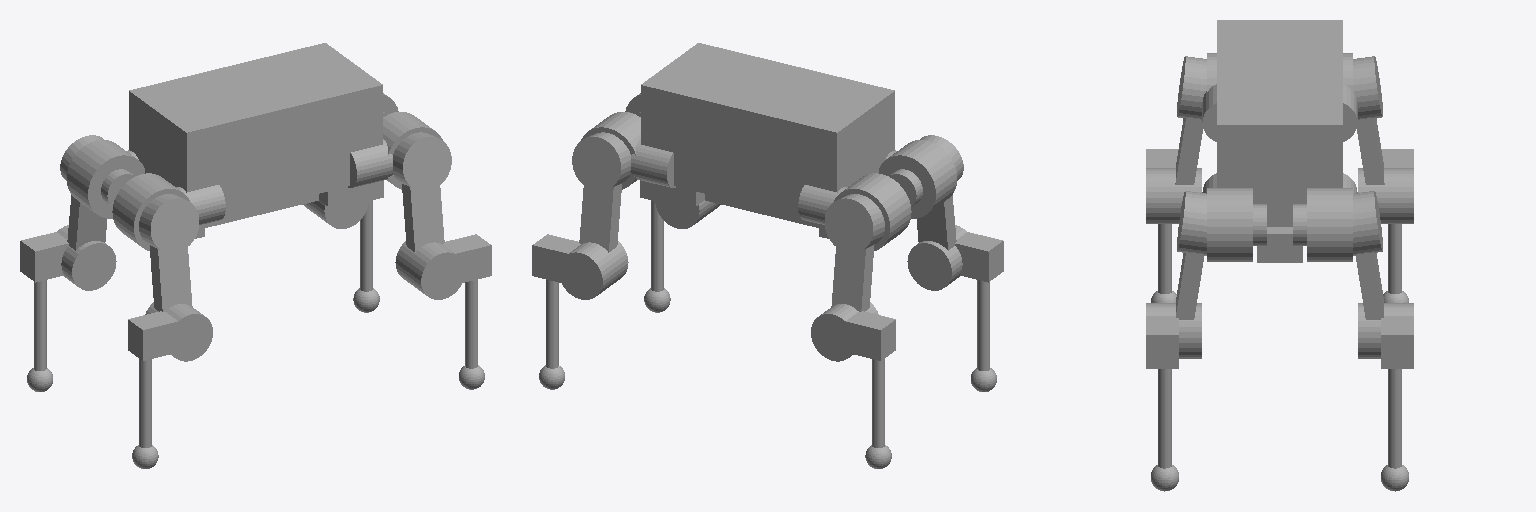
--- What the picture shows (computed from the rendered views, not written in the file) ---
The picture shows the robot from 3 angles, left to right: view 1: azimuth 30°, elevation 25°; view 2: azimuth 150°, elevation 25°; view 3: azimuth 270°, elevation 25°; orthographic projection.
Robot: anymal — 23 links, 22 joints (12 revolute, 10 fixed); root link base; default pose: every joint at zero.
Links seen in each view (by area): view 1: base, RF_THIGH, RH_THIGH, LH_THIGH, LH_HIP, RH_HIP, RH_SHANK, LH_SHANK, RF_SHANK, RF_HIP, LF_THIGH, LH_ADAPTER (+3 smaller); view 2: base, LF_THIGH, LH_THIGH, RH_THIGH, RH_HIP, LH_HIP, LH_SHANK, RH_SHANK, LF_SHANK, LF_HIP, RF_THIGH, RH_ADAPTER (+3 smaller); view 3: base, LH_THIGH, RH_THIGH, LF_THIGH, RF_THIGH, LF_HIP, RF_HIP, LF_SHANK, RF_SHANK, LF_ADAPTER, RF_ADAPTER, LH_ADAPTER (+5 smaller).
Link boxes in pixels (x1,y1,x2,y2): base: (127,43,393,238); RF_THIGH: (393,132,465,299); RH_THIGH: (139,194,212,361); LH_THIGH: (57,135,116,290); LH_HIP: (67,140,144,218); RH_HIP: (112,173,189,250); RH_SHANK: (128,311,190,360); LH_SHANK: (20,232,68,282); RF_SHANK: (443,234,491,283); RF_HIP: (383,112,442,189); LF_THIGH: (303,189,368,228); LH_ADAPTER: (34,280,46,370); base: (630,43,896,238); LF_THIGH: (559,132,630,299); LH_THIGH: (811,194,884,361); RH_THIGH: (907,135,966,290); RH_HIP: (879,140,956,218); LH_HIP: (834,173,911,250); LH_SHANK: (833,311,895,360); RH_SHANK: (955,232,1003,282); LF_SHANK: (532,234,580,282); LF_HIP: (581,112,640,189); RF_THIGH: (655,189,720,228); RH_ADAPTER: (977,280,989,370); base: (1202,20,1357,262); LH_THIGH: (1353,56,1413,223); RH_THIGH: (1146,56,1206,223); LF_THIGH: (1353,191,1413,358); RF_THIGH: (1146,191,1206,358); LF_HIP: (1293,188,1352,261); RF_HIP: (1207,188,1266,261); LF_SHANK: (1381,316,1413,368); RF_SHANK: (1146,316,1178,368); LF_ADAPTER: (1388,369,1401,468); RF_ADAPTER: (1158,369,1171,468); LH_ADAPTER: (1388,224,1401,293).
Size in the robot's own frame: 0.943 by 0.572 by 0.779 metres.
Geometry: primitives only (box / cylinder / sphere), no mesh files.

The robot description file, URDF, robot "anymal":
<?xml version="1.0" ?>
<!-- =================================================================================== -->
<!-- |    This document was autogenerated by xacro from [local-path]/anymal_ws/src/anymal_bear/anymal_bear_description/urdf/anymal.urdf.xacro | -->
<!-- |    EDITING THIS FILE BY HAND IS NOT RECOMMENDED                                 | -->
<!-- =================================================================================== -->
<!-- This file calls the macro of the ANYmal Bear robot. -->
<robot name="anymal" xmlns:xacro="http://www.ros.org/wiki/xacro">
  <material name="black">
    <color rgba="0.0 0.0 0.0 1.0"/>
  </material>
  <material name="blue">
    <color rgba="0.0 0.0 0.8 1.0"/>
  </material>
  <material name="green">
    <color rgba="0.0 0.8 0.0 1.0"/>
  </material>
  <material name="grey">
    <color rgba="0.2 0.2 0.2 1.0"/>
  </material>
  <material name="light_grey">
    <color rgba="0.4 0.4 0.4 1.0"/>
  </material>
  <material name="orange">
    <color rgba="1.0 0.423529411765 0.0392156862745 1.0"/>
  </material>
  <material name="brown">
    <color rgba="0.870588235294 0.811764705882 0.764705882353 1.0"/>
  </material>
  <material name="red">
    <color rgba="0.8 0.0 0.0 1.0"/>
  </material>
  <material name="white">
    <color rgba="1.0 1.0 1.0 1.0"/>
  </material>
  <gazebo>
    <plugin filename="libanymal_gazebo.so" name="gazebo_ros_control">
      <robotNamespace>anymal</robotNamespace>
      <!-- Currently unused -->
      <robotDescription>quadruped_description</robotDescription>
      <robotBaseLink>base</robotBaseLink>
      <statePublisherRate>400.0</statePublisherRate>
    </plugin>
  </gazebo>
  <!-- Material for the visual primitives -->
  <material name="anymal_material">
    <color rgba="0.7 0.7 0.7 1.0"/>
  </material>
  <!-- Includes -->
  <!-- Xacro:Properties -->
  <!-- [m] -->
  <!-- Base link -->
  <link name="base">
    <visual>
      <!-- Main Body -->
      <origin rpy="0 0 0" xyz="0 0 0.08"/>
      <geometry>
        <box size="0.531 0.27 0.24"/>
      </geometry>
      <material name="anymal_material"/>
    </visual>
    <visual>
      <!-- HAA actuators -->
      <origin rpy="0 1.57079632679 0" xyz="0.227 0.116 0"/>
      <geometry>
        <cylinder length="0.1" radius="0.05"/>
      </geometry>
      <material name="anymal_material"/>
    </visual>
    <visual>
      <origin rpy="0 1.57079632679 0" xyz="0.227 -0.116 0"/>
      <geometry>
        <cylinder length="0.1" radius="0.05"/>
      </geometry>
      <material name="anymal_material"/>
    </visual>
    <visual>
      <origin rpy="0 1.57079632679 0" xyz="-0.227 0.116 0"/>
      <geometry>
        <cylinder length="0.1" radius="0.05"/>
      </geometry>
      <material name="anymal_material"/>
    </visual>
    <visual>
      <origin rpy="0 1.57079632679 0" xyz="-0.227 -0.116 0"/>
      <geometry>
        <cylinder length="0.1" radius="0.05"/>
      </geometry>
      <material name="anymal_material"/>
    </visual>
    <visual>
      <!-- Belly plate front bump -->
      <origin rpy="0 0 0" xyz="0.2155 0.0 -0.09"/>
      <geometry>
        <box size="0.1 0.1 0.07"/>
      </geometry>
      <material name="anymal_material"/>
    </visual>
    <visual>
      <!-- Belly plate hind bump-->
      <origin rpy="0 0 0" xyz="-0.2155 0.0 -0.09"/>
      <geometry>
        <box size="0.1 0.1 0.07"/>
      </geometry>
      <material name="anymal_material"/>
    </visual>
    <visual>
      <!-- Belly plate middle bump-->
      <origin rpy="0 0 0" xyz="0 0 -0.09"/>
      <geometry>
        <box size="0.531 0.02 0.07"/>
      </geometry>
      <material name="anymal_material"/>
    </visual>
    <collision>
      <!-- Main Body -->
      <origin rpy="0 0 0" xyz="0 0 0.08"/>
      <geometry>
        <box size="0.531 0.27 0.24"/>
      </geometry>
    </collision>
    <collision>
      <!-- HAA actuators -->
      <origin rpy="0 1.57079632679 0" xyz="0.227 0.116 0"/>
      <geometry>
        <cylinder length="0.1" radius="0.05"/>
      </geometry>
    </collision>
    <collision>
      <origin rpy="0 1.57079632679 0" xyz="0.227 -0.116 0"/>
      <geometry>
        <cylinder length="0.1" radius="0.05"/>
      </geometry>
    </collision>
    <collision>
      <origin rpy="0 1.57079632679 0" xyz="-0.227 0.116 0"/>
      <geometry>
        <cylinder length="0.1" radius="0.05"/>
      </geometry>
    </collision>
    <collision>
      <origin rpy="0 1.57079632679 0" xyz="-0.227 -0.116 0"/>
      <geometry>
        <cylinder length="0.1" radius="0.05"/>
      </geometry>
    </collision>
    <collision>
      <!-- Belly plate front bump -->
      <origin rpy="0 0 0" xyz="0.2155 0.0 -0.09"/>
      <geometry>
        <box size="0.1 0.1 0.07"/>
      </geometry>
    </collision>
    <collision>
      <!-- Belly plate hind bump-->
      <origin rpy="0 0 0" xyz="-0.2155 0.0 -0.09"/>
      <geometry>
        <box size="0.1 0.1 0.07"/>
      </geometry>
    </collision>
    <collision>
      <!-- Belly plate middle bump-->
      <origin rpy="0 0 0" xyz="0 0 -0.09"/>
      <geometry>
        <box size="0.531 0.02 0.07"/>
      </geometry>
    </collision>
  </link>
  <!-- Fixed joint to add dummy inertia link -->
  <joint name="base_to_base_inertia" type="fixed">
    <parent link="base"/>
    <child link="base_inertia"/>
    <origin rpy="0 0 0" xyz="0 0 0"/>
  </joint>
  <!-- Dummy inertia link, because KDL cannot have inertia on the base link -->
  <link name="base_inertia">
    <inertial>
      <origin rpy="0 0 0" xyz="-0.0085 0.007 0.0502071"/>
      <mass value="19.0"/>
      <inertia ixx="0.248057547487" ixy="0.00109783880089" ixz="-0.00394501164854" iyy="0.650151658461" iyz="-0.00213569105487" izz="0.620944203624"/>
    </inertial>
  </link>
  <!-- Xacro:Properties -->
  <!-- [kg * m^2] -->
  <!-- [A] -->
  <link name="LF_HIP">
    <visual>
      <!-- Protector -->
      <origin rpy="1.57079632679 0 0" xyz="0.0635 -0.009 0.0"/>
      <geometry>
        <cylinder length="0.1" radius="0.08"/>
      </geometry>
      <material name="anymal_material"/>
    </visual>
    <visual>
      <!-- Heatfins -->
      <origin rpy="1.57079632679 0 0" xyz="0.0635 -0.074 0.0"/>
      <geometry>
        <cylinder length="0.03" radius="0.045"/>
      </geometry>
      <material name="anymal_material"/>
    </visual>
    <collision>
      <!-- Protector -->
      <origin rpy="1.57079632679 0 0" xyz="0.0635 -0.009 0.0"/>
      <geometry>
        <cylinder length="0.1" radius="0.08"/>
      </geometry>
    </collision>
    <collision>
      <!-- Heatfins -->
      <origin rpy="1.57079632679 0 0" xyz="0.0635 -0.074 0.0"/>
      <geometry>
        <cylinder length="0.03" radius="0.045"/>
      </geometry>
    </collision>
    <inertial>
      <origin rpy="0 0 0" xyz="0.064516258147 -0.003787101702 -0.000152184388"/>
      <mass value="1.42462064"/>
      <inertia ixx="0.00243023349564" ixy="-1.53023971e-05" ixz="-2.1819095354e-05" iyy="0.00230257239103" iyz="2.6473021273e-05" izz="0.0019806759227"/>
    </inertial>
  </link>
  <!-- Hip joint -->
  <joint name="LF_HAA" type="revolute">
    <parent link="base"/>
    <child link="LF_HIP"/>
    <origin xyz="0.277 0.116 0.0"/>
    <axis xyz="1 0 0"/>
    <limit command_effort="40" current="10" effort="80" gear_velocity="10" lower="-9.42" upper="9.42" velocity="15"/>
    <dynamics damping="0.0" friction="0.0"/>
  </joint>
  <!-- Xacro:Properties -->
  <!-- [m] -->
  <!-- [A] -->
  <link name="LF_THIGH">
    <visual>
      <!-- thigh with heat fins -->
      <origin rpy="0.145 0 0" xyz="0 0.035 -0.125"/>
      <geometry>
        <box size="0.08 0.04 -0.25"/>
      </geometry>
      <material name="anymal_material"/>
    </visual>
    <visual>
      <!-- KFE actuator -->
      <origin rpy="1.57079632679 0 0" xyz="0.0 0.069 -0.25"/>
      <geometry>
        <cylinder length="0.12" radius="0.06"/>
      </geometry>
      <material name="anymal_material"/>
    </visual>
    <visual>
      <!-- upper protector -->
      <origin rpy="1.71579632679 0 0" xyz="0 -0.005 0"/>
      <geometry>
        <cylinder length="0.12" radius="0.066"/>
      </geometry>
      <material name="anymal_material"/>
    </visual>
    <collision>
      <!-- thigh with heat fins -->
      <origin rpy="0.145 0 0" xyz="0 0.035 -0.125"/>
      <geometry>
        <box size="0.08 0.04 -0.25"/>
      </geometry>
    </collision>
    <collision>
      <!-- KFE actuator -->
      <origin rpy="1.57079632679 0 0" xyz="0.0 0.069 -0.25"/>
      <geometry>
        <cylinder length="0.12" radius="0.06"/>
      </geometry>
    </collision>
    <collision>
      <!-- upper protector -->
      <origin rpy="1.71579632679 0 0" xyz="0 -0.005 0"/>
      <geometry>
        <cylinder length="0.12" radius="0.066"/>
      </geometry>
    </collision>
    <inertial>
      <origin rpy="0 0 0" xyz="-0.003897968082 0.054226618537 -0.214583373795"/>
      <mass value="1.634976467"/>
      <inertia ixx="0.0120367944369" ixy="6.762065206e-05" ixz="0.000287806340448" iyy="0.0120643637939" iyz="-0.00140610131218" izz="0.00249422574881"/>
    </inertial>
  </link>
  <!-- Thigh joint -->
  <joint name="LF_HFE" type="revolute">
    <parent link="LF_HIP"/>
    <child link="LF_THIGH"/>
    <origin xyz="0.0635                    0.041                    0.0"/>
    <axis xyz="0 1 0"/>
    <limit command_effort="40" current="10" effort="80" gear_velocity="10" lower="-9.42" upper="9.42" velocity="15.0"/>
    <dynamics damping="0.0" friction="0.0"/>
  </joint>
  <!-- Xacro:Properties -->
  <!-- [m] -->
  <!-- [A] -->
  <link name="LF_SHANK">
    <visual>
      <origin rpy="0 1.57079632679 0" xyz="0.065 -0.015 0.01"/>
      <geometry>
        <box size="0.08 0.07 0.13"/>
      </geometry>
      <material name="anymal_material"/>
    </visual>
    <collision>
      <origin rpy="0 1.57079632679 0" xyz="0.065 -0.015 0.01"/>
      <geometry>
        <box size="0.08 0.07 0.13"/>
      </geometry>
    </collision>
    <inertial>
      <origin rpy="0 0 0" xyz="0.030816858139 -0.004617229294 0.000893125713"/>
      <mass value="0.207204302"/>
      <inertia ixx="0.0002104880248" ixy="-5.6750980345e-05" ixz="1.0127699391e-05" iyy="0.000676270210023" iyz="-8.22869024e-07" izz="0.000545032674924"/>
    </inertial>
  </link>
  <!-- Shank joint -->
  <joint name="LF_KFE" type="revolute">
    <parent link="LF_THIGH"/>
    <child link="LF_SHANK"/>
    <origin xyz="0.0 0.109 -0.25"/>
    <axis xyz="0 1 0"/>
    <limit command_effort="40" current="10" effort="80" gear_velocity="10" lower="-9.42" upper="9.42" velocity="15.0"/>
    <dynamics damping="0.0" friction="0.0"/>
  </joint>
  <!-- Xacro:Properties -->
  <!-- [m] -->
  <!-- Shank to Adapter joint -->
  <joint name="LF_SHANK_TO_ADAPTER" type="fixed">
    <parent link="LF_SHANK"/>
    <child link="LF_ADAPTER"/>
    <origin rpy="0.0 0.0 0.0" xyz="0.1 -0.02 0.0"/>
  </joint>
  <!-- Adapter link -->
  <link name="LF_ADAPTER">
    <visual>
      <origin rpy="0 0 0" xyz="0 0 -0.160625"/>
      <geometry>
        <cylinder length="-0.32125" radius="0.015"/>
      </geometry>
      <material name="anymal_material"/>
    </visual>
    <collision>
      <origin rpy="0 0 0" xyz="0 0 -0.160625"/>
      <geometry>
        <cylinder length="-0.32125" radius="0.015"/>
      </geometry>
      <material name="anymal_material"/>
    </collision>
    <inertial>
      <origin rpy="0 0 0" xyz="-8.66e-10 -1.472e-09 -0.244345749188"/>
      <mass value="0.140170767"/>
      <inertia ixx="0.00159938741862" ixy="-9.32e-13" ixz="1.039e-11" iyy="0.00159938741932" iyz="1.7563e-11" izz="5.4423177329e-05"/>
    </inertial>
  </link>
  <!-- Adapter to Foot joint -->
  <joint name="LF_ADAPTER_TO_FOOT" type="fixed">
    <parent link="LF_ADAPTER"/>
    <child link="LF_FOOT"/>
    <origin rpy="0.0 0.0 0.0" xyz="0.0 0.0 -0.32125"/>
  </joint>
  <!-- Foot link -->
  <link name="LF_FOOT">
    <visual>
      <origin xyz="0 0 0.02325"/>
      <geometry>
        <sphere radius="0.031"/>
      </geometry>
      <material name="anymal_material"/>
    </visual>
    <collision>
      <origin xyz="0 0 0.02325"/>
      <geometry>
        <sphere radius="0.031"/>
      </geometry>
    </collision>
  </link>
  <!-- Gazebo customization -->
  <gazebo reference="LF_FOOT">
    <kp>1000000.0</kp>
    <kd>100.0</kd>
    <mu1>0.7</mu1>
    <mu2>0.7</mu2>
  </gazebo>
  <!-- Xacro:Properties -->
  <!-- [kg * m^2] -->
  <!-- [A] -->
  <link name="RF_HIP">
    <visual>
      <!-- Protector -->
      <origin rpy="1.57079632679 0 0" xyz="0.0635 0.009 0.0"/>
      <geometry>
        <cylinder length="0.1" radius="0.08"/>
      </geometry>
      <material name="anymal_material"/>
    </visual>
    <visual>
      <!-- Heatfins -->
      <origin rpy="1.57079632679 0 0" xyz="0.0635 0.074 0.0"/>
      <geometry>
        <cylinder length="0.03" radius="0.045"/>
      </geometry>
      <material name="anymal_material"/>
    </visual>
    <collision>
      <!-- Protector -->
      <origin rpy="1.57079632679 0 0" xyz="0.0635 0.009 0.0"/>
      <geometry>
        <cylinder length="0.1" radius="0.08"/>
      </geometry>
    </collision>
    <collision>
      <!-- Heatfins -->
      <origin rpy="1.57079632679 0 0" xyz="0.0635 0.074 0.0"/>
      <geometry>
        <cylinder length="0.03" radius="0.045"/>
      </geometry>
    </collision>
    <inertial>
      <origin rpy="0 0 0" xyz="0.064516258147 0.003787101702 -0.000152184388"/>
      <mass value="1.42462064"/>
      <inertia ixx="0.00243023349564" ixy="1.53023971e-05" ixz="-2.1819095354e-05" iyy="0.00230257239103" iyz="-2.6473021273e-05" izz="0.0019806759227"/>
    </inertial>
  </link>
  <!-- Hip joint -->
  <joint name="RF_HAA" type="revolute">
    <parent link="base"/>
    <child link="RF_HIP"/>
    <origin xyz="0.277 -0.116 0.0"/>
    <axis xyz="1 0 0"/>
    <limit command_effort="40" current="10" effort="80" gear_velocity="10" lower="-9.42" upper="9.42" velocity="15"/>
    <dynamics damping="0.0" friction="0.0"/>
  </joint>
  <!-- Xacro:Properties -->
  <!-- [m] -->
  <!-- [A] -->
  <link name="RF_THIGH">
    <visual>
      <!-- thigh with heat fins -->
      <origin rpy="-0.145 0 0" xyz="0 -0.035 -0.125"/>
      <geometry>
        <box size="0.08 0.04 -0.25"/>
      </geometry>
      <material name="anymal_material"/>
    </visual>
    <visual>
      <!-- KFE actuator -->
      <origin rpy="1.57079632679 0 0" xyz="0.0 -0.069 -0.25"/>
      <geometry>
        <cylinder length="0.12" radius="0.06"/>
      </geometry>
      <material name="anymal_material"/>
    </visual>
    <visual>
      <!-- upper protector -->
      <origin rpy="-1.71579632679 0 0" xyz="0 0.005 0"/>
      <geometry>
        <cylinder length="0.12" radius="0.066"/>
      </geometry>
      <material name="anymal_material"/>
    </visual>
    <collision>
      <!-- thigh with heat fins -->
      <origin rpy="-0.145 0 0" xyz="0 -0.035 -0.125"/>
      <geometry>
        <box size="0.08 0.04 -0.25"/>
      </geometry>
    </collision>
    <collision>
      <!-- KFE actuator -->
      <origin rpy="1.57079632679 0 0" xyz="0.0 -0.069 -0.25"/>
      <geometry>
        <cylinder length="0.12" radius="0.06"/>
      </geometry>
    </collision>
    <collision>
      <!-- upper protector -->
      <origin rpy="-1.71579632679 0 0" xyz="0 0.005 0"/>
      <geometry>
        <cylinder length="0.12" radius="0.066"/>
      </geometry>
    </collision>
    <inertial>
      <origin rpy="0 0 0" xyz="-0.003897968082 -0.054226618537 -0.214583373795"/>
      <mass value="1.634976467"/>
      <inertia ixx="0.0120367944369" ixy="-6.762065206e-05" ixz="0.000287806340448" iyy="0.0120643637939" iyz="0.00140610131218" izz="0.00249422574881"/>
    </inertial>
  </link>
  <!-- Thigh joint -->
  <joint name="RF_HFE" type="revolute">
    <parent link="RF_HIP"/>
    <child link="RF_THIGH"/>
    <origin xyz="0.0635                    -0.041                    0.0"/>
    <axis xyz="0 1 0"/>
    <limit command_effort="40" current="10" effort="80" gear_velocity="10" lower="-9.42" upper="9.42" velocity="15.0"/>
    <dynamics damping="0.0" friction="0.0"/>
  </joint>
  <!-- Xacro:Properties -->
  <!-- [m] -->
  <!-- [A] -->
  <link name="RF_SHANK">
    <visual>
      <origin rpy="0 1.57079632679 0" xyz="0.065 0.015 0.01"/>
      <geometry>
        <box size="0.08 0.07 0.13"/>
      </geometry>
      <material name="anymal_material"/>
    </visual>
    <collision>
      <origin rpy="0 1.57079632679 0" xyz="0.065 0.015 0.01"/>
      <geometry>
        <box size="0.08 0.07 0.13"/>
      </geometry>
    </collision>
    <inertial>
      <origin rpy="0 0 0" xyz="0.030816858139 0.004617229294 0.000893125713"/>
      <mass value="0.207204302"/>
      <inertia ixx="0.0002104880248" ixy="5.6750980345e-05" ixz="1.0127699391e-05" iyy="0.000676270210023" iyz="8.22869024e-07" izz="0.000545032674924"/>
    </inertial>
  </link>
  <!-- Shank joint -->
  <joint name="RF_KFE" type="revolute">
    <parent link="RF_THIGH"/>
    <child link="RF_SHANK"/>
    <origin xyz="0.0 -0.109 -0.25"/>
    <axis xyz="0 1 0"/>
    <limit command_effort="40" current="10" effort="80" gear_velocity="10" lower="-9.42" upper="9.42" velocity="15.0"/>
    <dynamics damping="0.0" friction="0.0"/>
  </joint>
  <!-- Xacro:Properties -->
  <!-- [m] -->
  <!-- Shank to Adapter joint -->
  <joint name="RF_SHANK_TO_ADAPTER" type="fixed">
    <parent link="RF_SHANK"/>
    <child link="RF_ADAPTER"/>
    <origin rpy="-0.0 0.0 -0.0" xyz="0.1 0.02 0.0"/>
  </joint>
  <!-- Adapter link -->
  <link name="RF_ADAPTER">
    <visual>
      <origin rpy="0 0 0" xyz="0 0 -0.160625"/>
      <geometry>
        <cylinder length="-0.32125" radius="0.015"/>
      </geometry>
      <material name="anymal_material"/>
    </visual>
    <collision>
      <origin rpy="0 0 0" xyz="0 0 -0.160625"/>
      <geometry>
        <cylinder length="-0.32125" radius="0.015"/>
      </geometry>
      <material name="anymal_material"/>
    </collision>
    <inertial>
      <origin rpy="0 0 0" xyz="-8.66e-10 -1.472e-09 -0.244345749188"/>
      <mass value="0.140170767"/>
      <inertia ixx="0.00159938741862" ixy="-9.32e-13" ixz="1.039e-11" iyy="0.00159938741932" iyz="1.7563e-11" izz="5.4423177329e-05"/>
    </inertial>
  </link>
  <!-- Adapter to Foot joint -->
  <joint name="RF_ADAPTER_TO_FOOT" type="fixed">
    <parent link="RF_ADAPTER"/>
    <child link="RF_FOOT"/>
    <origin rpy="-0.0 0.0 -0.0" xyz="0.0 -0.0 -0.32125"/>
  </joint>
  <!-- Foot link -->
  <link name="RF_FOOT">
    <visual>
      <origin xyz="0 0 0.02325"/>
      <geometry>
        <sphere radius="0.031"/>
      </geometry>
      <material name="anymal_material"/>
    </visual>
    <collision>
      <origin xyz="0 0 0.02325"/>
      <geometry>
        <sphere radius="0.031"/>
      </geometry>
    </collision>
  </link>
  <!-- Gazebo customization -->
  <gazebo reference="RF_FOOT">
    <kp>1000000.0</kp>
    <kd>100.0</kd>
    <mu1>0.7</mu1>
    <mu2>0.7</mu2>
  </gazebo>
  <!-- Xacro:Properties -->
  <!-- [kg * m^2] -->
  <!-- [A] -->
  <link name="LH_HIP">
    <visual>
      <!-- Protector -->
      <origin rpy="-1.57079632679 0 0" xyz="-0.0635 -0.009 0.0"/>
      <geometry>
        <cylinder length="0.1" radius="0.08"/>
      </geometry>
      <material name="anymal_material"/>
    </visual>
    <visual>
      <!-- Heatfins -->
      <origin rpy="-1.57079632679 0 0" xyz="-0.0635 -0.074 0.0"/>
      <geometry>
        <cylinder length="0.03" radius="0.045"/>
      </geometry>
      <material name="anymal_material"/>
    </visual>
    <collision>
      <!-- Protector -->
      <origin rpy="-1.57079632679 0 0" xyz="-0.0635 -0.009 0.0"/>
      <geometry>
        <cylinder length="0.1" radius="0.08"/>
      </geometry>
    </collision>
    <collision>
      <!-- Heatfins -->
      <origin rpy="-1.57079632679 0 0" xyz="-0.0635 -0.074 0.0"/>
      <geometry>
        <cylinder length="0.03" radius="0.045"/>
      </geometry>
    </collision>
    <inertial>
      <origin rpy="0 0 0" xyz="-0.064516258147 -0.003787101702 -0.000152184388"/>
      <mass value="1.42462064"/>
      <inertia ixx="0.00243023349564" ixy="1.53023971e-05" ixz="2.1819095354e-05" iyy="0.00230257239103" iyz="2.6473021273e-05" izz="0.0019806759227"/>
    </inertial>
  </link>
  <!-- Hip joint -->
  <joint name="LH_HAA" type="revolute">
    <parent link="base"/>
    <child link="LH_HIP"/>
    <origin xyz="-0.277 0.116 0.0"/>
    <axis xyz="1 0 0"/>
    <limit command_effort="40" current="10" effort="80" gear_velocity="10" lower="-9.42" upper="9.42" velocity="15"/>
    <dynamics damping="0.0" friction="0.0"/>
  </joint>
  <!-- Xacro:Properties -->
  <!-- [m] -->
  <!-- [A] -->
  <link name="LH_THIGH">
    <visual>
      <!-- thigh with heat fins -->
      <origin rpy="0.145 0 0" xyz="0 0.035 -0.125"/>
      <geometry>
        <box size="0.08 0.04 -0.25"/>
      </geometry>
      <material name="anymal_material"/>
    </visual>
    <visual>
      <!-- KFE actuator -->
      <origin rpy="1.57079632679 0 0" xyz="0.0 0.069 -0.25"/>
      <geometry>
        <cylinder length="0.12" radius="0.06"/>
      </geometry>
      <material name="anymal_material"/>
    </visual>
    <visual>
      <!-- upper protector -->
      <origin rpy="1.71579632679 0 0" xyz="0 -0.005 0"/>
      <geometry>
        <cylinder length="0.12" radius="0.066"/>
      </geometry>
      <material name="anymal_material"/>
    </visual>
    <collision>
      <!-- thigh with heat fins -->
      <origin rpy="0.145 0 0" xyz="0 0.035 -0.125"/>
      <geometry>
        <box size="0.08 0.04 -0.25"/>
      </geometry>
    </collision>
    <collision>
      <!-- KFE actuator -->
      <origin rpy="1.57079632679 0 0" xyz="0.0 0.069 -0.25"/>
      <geometry>
        <cylinder length="0.12" radius="0.06"/>
      </geometry>
    </collision>
    <collision>
      <!-- upper protector -->
      <origin rpy="1.71579632679 0 0" xyz="0 -0.005 0"/>
      <geometry>
        <cylinder length="0.12" radius="0.066"/>
      </geometry>
    </collision>
    <inertial>
      <origin rpy="0 0 0" xyz="0.003897968082 0.054226618537 -0.214583373795"/>
      <mass value="1.634976467"/>
      <inertia ixx="0.0120367944369" ixy="-6.762065206e-05" ixz="-0.000287806340448" iyy="0.0120643637939" iyz="-0.00140610131218" izz="0.00249422574881"/>
    </inertial>
  </link>
  <!-- Thigh joint -->
  <joint name="LH_HFE" type="revolute">
    <parent link="LH_HIP"/>
    <child link="LH_THIGH"/>
    <origin xyz="-0.0635                    0.041                    0.0"/>
    <axis xyz="0 1 0"/>
    <limit command_effort="40" current="10" effort="80" gear_velocity="10" lower="-9.42" upper="9.42" velocity="15.0"/>
    <dynamics damping="0.0" friction="0.0"/>
  </joint>
  <!-- Xacro:Properties -->
  <!-- [m] -->
  <!-- [A] -->
  <link name="LH_SHANK">
    <visual>
      <origin rpy="0 1.57079632679 0" xyz="-0.065 -0.015 0.01"/>
      <geometry>
        <box size="0.08 0.07 0.13"/>
      </geometry>
      <material name="anymal_material"/>
    </visual>
    <collision>
      <origin rpy="0 1.57079632679 0" xyz="-0.065 -0.015 0.01"/>
      <geometry>
        <box size="0.08 0.07 0.13"/>
      </geometry>
    </collision>
    <inertial>
      <origin rpy="0 0 0" xyz="-0.030816858139 -0.004617229294 0.000893125713"/>
      <mass value="0.207204302"/>
      <inertia ixx="0.0002104880248" ixy="5.6750980345e-05" ixz="-1.0127699391e-05" iyy="0.000676270210023" iyz="-8.22869024e-07" izz="0.000545032674924"/>
    </inertial>
  </link>
  <!-- Shank joint -->
  <joint name="LH_KFE" type="revolute">
    <parent link="LH_THIGH"/>
    <child link="LH_SHANK"/>
    <origin xyz="-0.0 0.109 -0.25"/>
    <axis xyz="0 1 0"/>
    <limit command_effort="40" current="10" effort="80" gear_velocity="10" lower="-9.42" upper="9.42" velocity="15.0"/>
    <dynamics damping="0.0" friction="0.0"/>
  </joint>
  <!-- Xacro:Properties -->
  <!-- [m] -->
  <!-- Shank to Adapter joint -->
  <joint name="LH_SHANK_TO_ADAPTER" type="fixed">
    <parent link="LH_SHANK"/>
    <child link="LH_ADAPTER"/>
    <origin rpy="0.0 -0.0 -0.0" xyz="-0.1 -0.02 0.0"/>
  </joint>
  <!-- Adapter link -->
  <link name="LH_ADAPTER">
    <visual>
      <origin rpy="0 0 0" xyz="0 0 -0.160625"/>
      <geometry>
        <cylinder length="-0.32125" radius="0.015"/>
      </geometry>
      <material name="anymal_material"/>
    </visual>
    <collision>
      <origin rpy="0 0 0" xyz="0 0 -0.160625"/>
      <geometry>
        <cylinder length="-0.32125" radius="0.015"/>
      </geometry>
      <material name="anymal_material"/>
    </collision>
    <inertial>
      <origin rpy="0 0 0" xyz="-8.66e-10 -1.472e-09 -0.244345749188"/>
      <mass value="0.140170767"/>
      <inertia ixx="0.00159938741862" ixy="-9.32e-13" ixz="1.039e-11" iyy="0.00159938741932" iyz="1.7563e-11" izz="5.4423177329e-05"/>
    </inertial>
  </link>
  <!-- Adapter to Foot joint -->
  <joint name="LH_ADAPTER_TO_FOOT" type="fixed">
    <parent link="LH_ADAPTER"/>
    <child link="LH_FOOT"/>
    <origin rpy="0.0 -0.0 -0.0" xyz="-0.0 0.0 -0.32125"/>
  </joint>
  <!-- Foot link -->
  <link name="LH_FOOT">
    <visual>
      <origin xyz="0 0 0.02325"/>
      <geometry>
        <sphere radius="0.031"/>
      </geometry>
      <material name="anymal_material"/>
    </visual>
    <collision>
      <origin xyz="0 0 0.02325"/>
      <geometry>
        <sphere radius="0.031"/>
      </geometry>
    </collision>
  </link>
  <!-- Gazebo customization -->
  <gazebo reference="LH_FOOT">
    <kp>1000000.0</kp>
    <kd>100.0</kd>
    <mu1>0.7</mu1>
    <mu2>0.7</mu2>
  </gazebo>
  <!-- Xacro:Properties -->
  <!-- [kg * m^2] -->
  <!-- [A] -->
  <link name="RH_HIP">
    <visual>
      <!-- Protector -->
      <origin rpy="-1.57079632679 0 0" xyz="-0.0635 0.009 0.0"/>
      <geometry>
        <cylinder length="0.1" radius="0.08"/>
      </geometry>
      <material name="anymal_material"/>
    </visual>
    <visual>
      <!-- Heatfins -->
      <origin rpy="-1.57079632679 0 0" xyz="-0.0635 0.074 0.0"/>
      <geometry>
        <cylinder length="0.03" radius="0.045"/>
      </geometry>
      <material name="anymal_material"/>
    </visual>
    <collision>
      <!-- Protector -->
      <origin rpy="-1.57079632679 0 0" xyz="-0.0635 0.009 0.0"/>
      <geometry>
        <cylinder length="0.1" radius="0.08"/>
      </geometry>
    </collision>
    <collision>
      <!-- Heatfins -->
      <origin rpy="-1.57079632679 0 0" xyz="-0.0635 0.074 0.0"/>
      <geometry>
        <cylinder length="0.03" radius="0.045"/>
      </geometry>
    </collision>
    <inertial>
      <origin rpy="0 0 0" xyz="-0.064516258147 0.003787101702 -0.000152184388"/>
      <mass value="1.42462064"/>
      <inertia ixx="0.00243023349564" ixy="-1.53023971e-05" ixz="2.1819095354e-05" iyy="0.00230257239103" iyz="-2.6473021273e-05" izz="0.0019806759227"/>
    </inertial>
  </link>
  <!-- Hip joint -->
  <joint name="RH_HAA" type="revolute">
    <parent link="base"/>
    <child link="RH_HIP"/>
    <origin xyz="-0.277 -0.116 0.0"/>
    <axis xyz="1 0 0"/>
    <limit command_effort="40" current="10" effort="80" gear_velocity="10" lower="-9.42" upper="9.42" velocity="15"/>
    <dynamics damping="0.0" friction="0.0"/>
  </joint>
  <!-- Xacro:Properties -->
  <!-- [m] -->
  <!-- [A] -->
  <link name="RH_THIGH">
    <visual>
      <!-- thigh with heat fins -->
      <origin rpy="-0.145 0 0" xyz="0 -0.035 -0.125"/>
      <geometry>
        <box size="0.08 0.04 -0.25"/>
      </geometry>
      <material name="anymal_material"/>
    </visual>
    <visual>
      <!-- KFE actuator -->
      <origin rpy="1.57079632679 0 0" xyz="0.0 -0.069 -0.25"/>
      <geometry>
        <cylinder length="0.12" radius="0.06"/>
      </geometry>
      <material name="anymal_material"/>
    </visual>
    <visual>
      <!-- upper protector -->
      <origin rpy="-1.71579632679 0 0" xyz="0 0.005 0"/>
      <geometry>
        <cylinder length="0.12" radius="0.066"/>
      </geometry>
      <material name="anymal_material"/>
    </visual>
    <collision>
      <!-- thigh with heat fins -->
      <origin rpy="-0.145 0 0" xyz="0 -0.035 -0.125"/>
      <geometry>
        <box size="0.08 0.04 -0.25"/>
      </geometry>
    </collision>
    <collision>
      <!-- KFE actuator -->
      <origin rpy="1.57079632679 0 0" xyz="0.0 -0.069 -0.25"/>
      <geometry>
        <cylinder length="0.12" radius="0.06"/>
      </geometry>
    </collision>
    <collision>
      <!-- upper protector -->
      <origin rpy="-1.71579632679 0 0" xyz="0 0.005 0"/>
      <geometry>
        <cylinder length="0.12" radius="0.066"/>
      </geometry>
    </collision>
    <inertial>
      <origin rpy="0 0 0" xyz="0.003897968082 -0.054226618537 -0.214583373795"/>
      <mass value="1.634976467"/>
      <inertia ixx="0.0120367944369" ixy="6.762065206e-05" ixz="-0.000287806340448" iyy="0.0120643637939" iyz="0.00140610131218" izz="0.00249422574881"/>
    </inertial>
  </link>
  <!-- Thigh joint -->
  <joint name="RH_HFE" type="revolute">
    <parent link="RH_HIP"/>
    <child link="RH_THIGH"/>
    <origin xyz="-0.0635                    -0.041                    0.0"/>
    <axis xyz="0 1 0"/>
    <limit command_effort="40" current="10" effort="80" gear_velocity="10" lower="-9.42" upper="9.42" velocity="15.0"/>
    <dynamics damping="0.0" friction="0.0"/>
  </joint>
  <!-- Xacro:Properties -->
  <!-- [m] -->
  <!-- [A] -->
  <link name="RH_SHANK">
    <visual>
      <origin rpy="0 1.57079632679 0" xyz="-0.065 0.015 0.01"/>
      <geometry>
        <box size="0.08 0.07 0.13"/>
      </geometry>
      <material name="anymal_material"/>
    </visual>
    <collision>
      <origin rpy="0 1.57079632679 0" xyz="-0.065 0.015 0.01"/>
      <geometry>
        <box size="0.08 0.07 0.13"/>
      </geometry>
    </collision>
    <inertial>
      <origin rpy="0 0 0" xyz="-0.030816858139 0.004617229294 0.000893125713"/>
      <mass value="0.207204302"/>
      <inertia ixx="0.0002104880248" ixy="-5.6750980345e-05" ixz="-1.0127699391e-05" iyy="0.000676270210023" iyz="8.22869024e-07" izz="0.000545032674924"/>
    </inertial>
  </link>
  <!-- Shank joint -->
  <joint name="RH_KFE" type="revolute">
    <parent link="RH_THIGH"/>
    <child link="RH_SHANK"/>
    <origin xyz="-0.0 -0.109 -0.25"/>
    <axis xyz="0 1 0"/>
    <limit command_effort="40" current="10" effort="80" gear_velocity="10" lower="-9.42" upper="9.42" velocity="15.0"/>
    <dynamics damping="0.0" friction="0.0"/>
  </joint>
  <!-- Xacro:Properties -->
  <!-- [m] -->
  <!-- Shank to Adapter joint -->
  <joint name="RH_SHANK_TO_ADAPTER" type="fixed">
    <parent link="RH_SHANK"/>
    <child link="RH_ADAPTER"/>
    <origin rpy="-0.0 -0.0 0.0" xyz="-0.1 0.02 0.0"/>
  </joint>
  <!-- Adapter link -->
  <link name="RH_ADAPTER">
    <visual>
      <origin rpy="0 0 0" xyz="0 0 -0.160625"/>
      <geometry>
        <cylinder length="-0.32125" radius="0.015"/>
      </geometry>
      <material name="anymal_material"/>
    </visual>
    <collision>
      <origin rpy="0 0 0" xyz="0 0 -0.160625"/>
      <geometry>
        <cylinder length="-0.32125" radius="0.015"/>
      </geometry>
      <material name="anymal_material"/>
    </collision>
    <inertial>
      <origin rpy="0 0 0" xyz="-8.66e-10 -1.472e-09 -0.244345749188"/>
      <mass value="0.140170767"/>
      <inertia ixx="0.00159938741862" ixy="-9.32e-13" ixz="1.039e-11" iyy="0.00159938741932" iyz="1.7563e-11" izz="5.4423177329e-05"/>
    </inertial>
  </link>
  <!-- Adapter to Foot joint -->
  <joint name="RH_ADAPTER_TO_FOOT" type="fixed">
    <parent link="RH_ADAPTER"/>
    <child link="RH_FOOT"/>
    <origin rpy="-0.0 -0.0 0.0" xyz="-0.0 -0.0 -0.32125"/>
  </joint>
  <!-- Foot link -->
  <link name="RH_FOOT">
    <visual>
      <origin xyz="0 0 0.02325"/>
      <geometry>
        <sphere radius="0.031"/>
      </geometry>
      <material name="anymal_material"/>
    </visual>
    <collision>
      <origin xyz="0 0 0.02325"/>
      <geometry>
        <sphere radius="0.031"/>
      </geometry>
    </collision>
  </link>
  <!-- Gazebo customization -->
  <gazebo reference="RH_FOOT">
    <kp>1000000.0</kp>
    <kd>100.0</kd>
    <mu1>0.7</mu1>
    <mu2>0.7</mu2>
  </gazebo>
  <link name="imu_link">
    <visual>
      <origin rpy="0 0 0" xyz="0 0 0.011"/>
      <geometry>
        <box size="0.058 0.058 0.022"/>
      </geometry>
      <material name="orange"/>
    </visual>
    <collision>
      <origin rpy="0 0 0" xyz="0 0 0.011"/>
      <geometry>
        <box size="0.058 0.058 0.022"/>
      </geometry>
    </collision>
    <inertial>
      <mass value="0.05"/>
      <origin xyz="0 0 0"/>
      <inertia ixx="1.60333333333e-05" ixy="0.0" ixz="0.0" iyy="2.80333333333e-05" iyz="0.0" izz="1.60333333333e-05"/>
    </inertial>
  </link>
  <joint name="imu_joint" type="fixed">
    <parent link="base"/>
    <child link="imu_link"/>
    <origin rpy="3.14159265359 0 0" xyz="0.062 0.05755 0.1837"/>
  </joint>
  <gazebo reference="imu_link">
    <material>Gazebo/Orange</material>
    <mu1>0.8</mu1>
    <mu2>0.8</mu2>
  </gazebo>
  <gazebo reference="imu_joint">
      </gazebo>
  <gazebo>
    <plugin filename="libany_hector_gazebo_ros_imu.so" name="imu_plugin">
      <robotNamespace>sensors</robotNamespace>
      <bodyName>imu_link</bodyName>
      <frameId>imu_link</frameId>
      <topicName>imu</topicName>
      <biasTopicName>imu/bias</biasTopicName>
      <serviceName>imu/calibrate</serviceName>
      <updateRate>400</updateRate>
    </plugin>
  </gazebo>
</robot>
